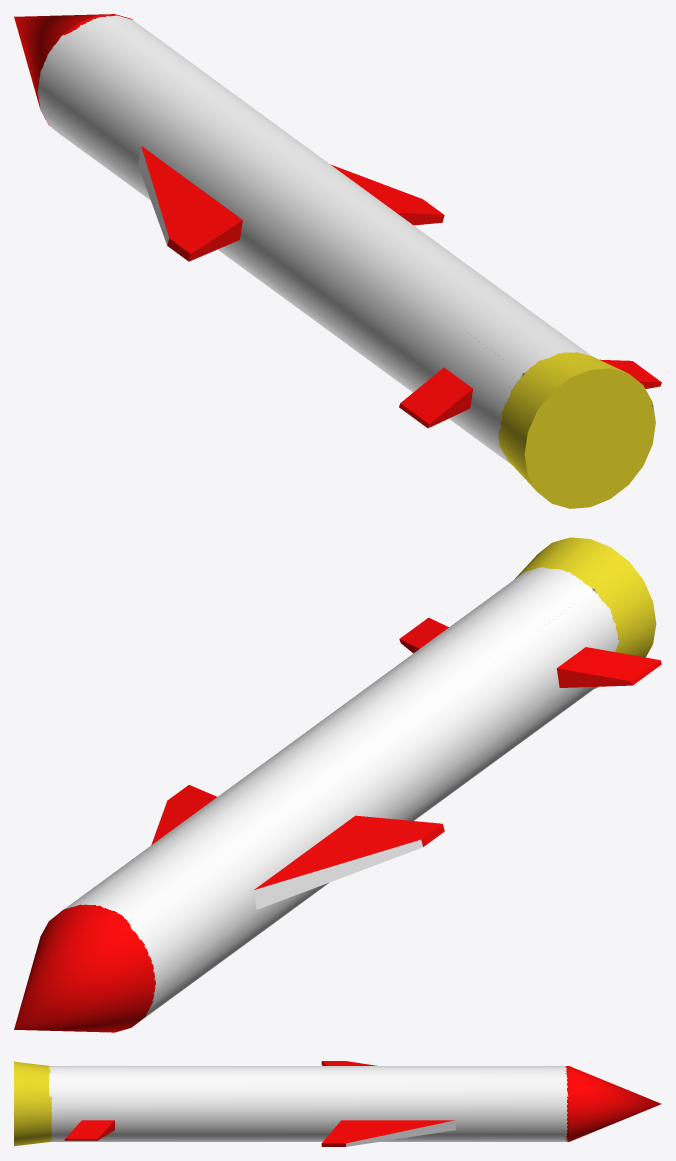
Rendered from Stinger.fbx.
3 renders of one model, top to bottom at view 1: azimuth 30°, elevation 25°; view 2: azimuth 150°, elevation 25°; view 3: azimuth 270°, elevation 25°, orthographic. The views are drawn at different scales.
Parts seen in each view (by area): view 1: pCylinder1; view 2: pCylinder1; view 3: pCylinder1.
Boxes of the visible parts, x1,y1,x2,y2 form: pCylinder1: [14, 14, 661, 508]; pCylinder1: [14, 537, 661, 1032]; pCylinder1: [14, 1061, 661, 1146].
Bounding box in the file's own units: 0.6477 × 0.3327 × 2.53.
Materials: 1 (1 with a texture image).
